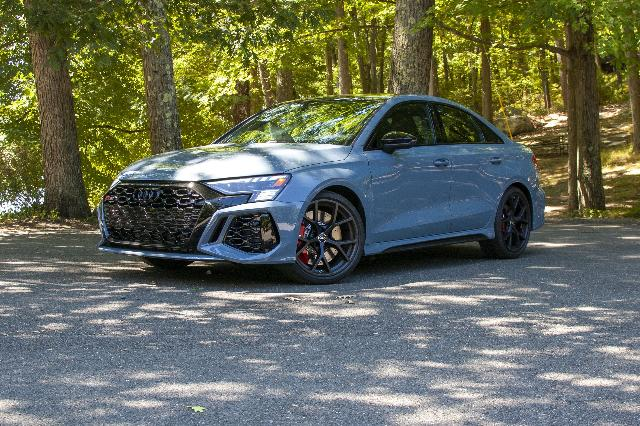audi: (96, 94, 546, 284)
